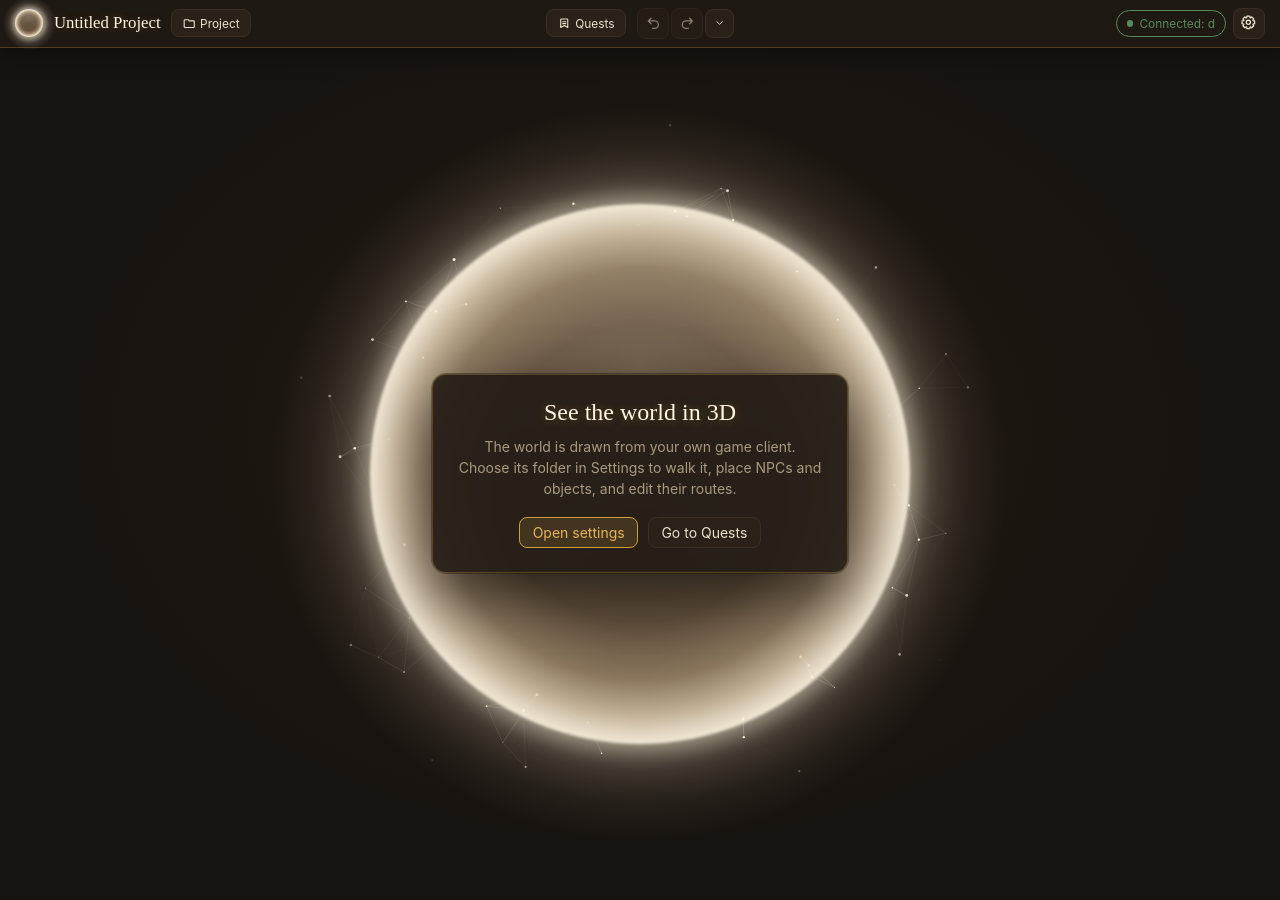
Test: chain dock error reporting › shows a failed draft save while a quest is open
The image size is (1280, 900).
Step 1. Click the button "Quests" → (586, 23), box [546,10,626,37]
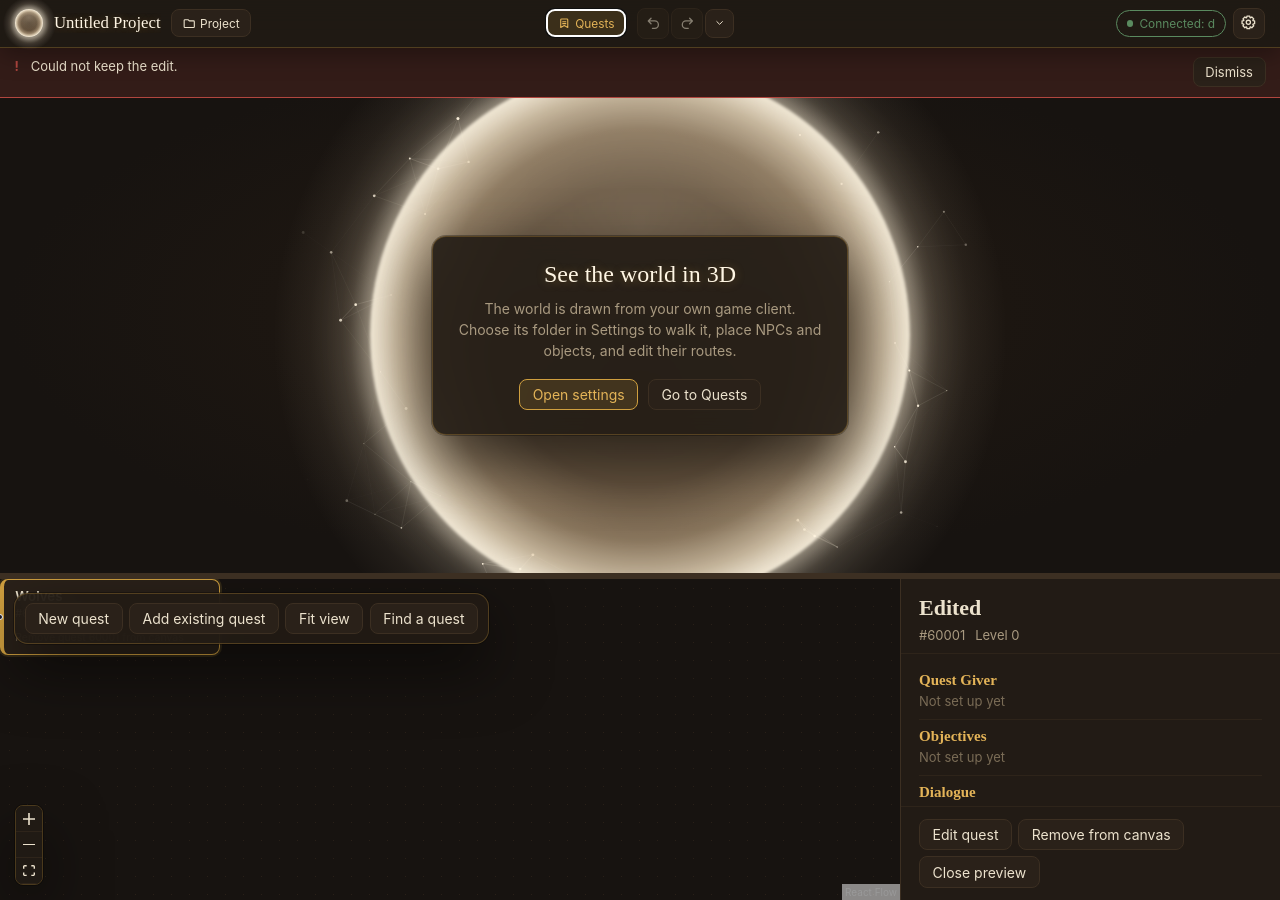
Now the element named "Quest preview" is shown, box [900,579,1279,899]
Now the message "! Could not keep the edit. Dismiss" is shown, box [0,48,1279,98]
